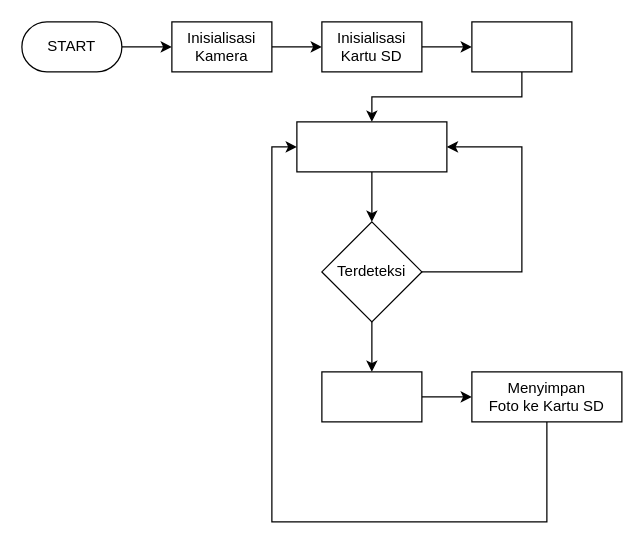
Image size: 644x554. Some labels were removed from this diagram. The shapes that lost their labels are listed below. From the top down, each one's box as (x1, y1, x2, y2) in pixels, then its label:
(471, 21, 572, 72): Inisialisasi WebServer
(296, 121, 447, 172): PIR SCAN
(321, 371, 422, 422): Mengambil Foto
